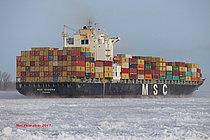Ship: (17, 15, 208, 100)
